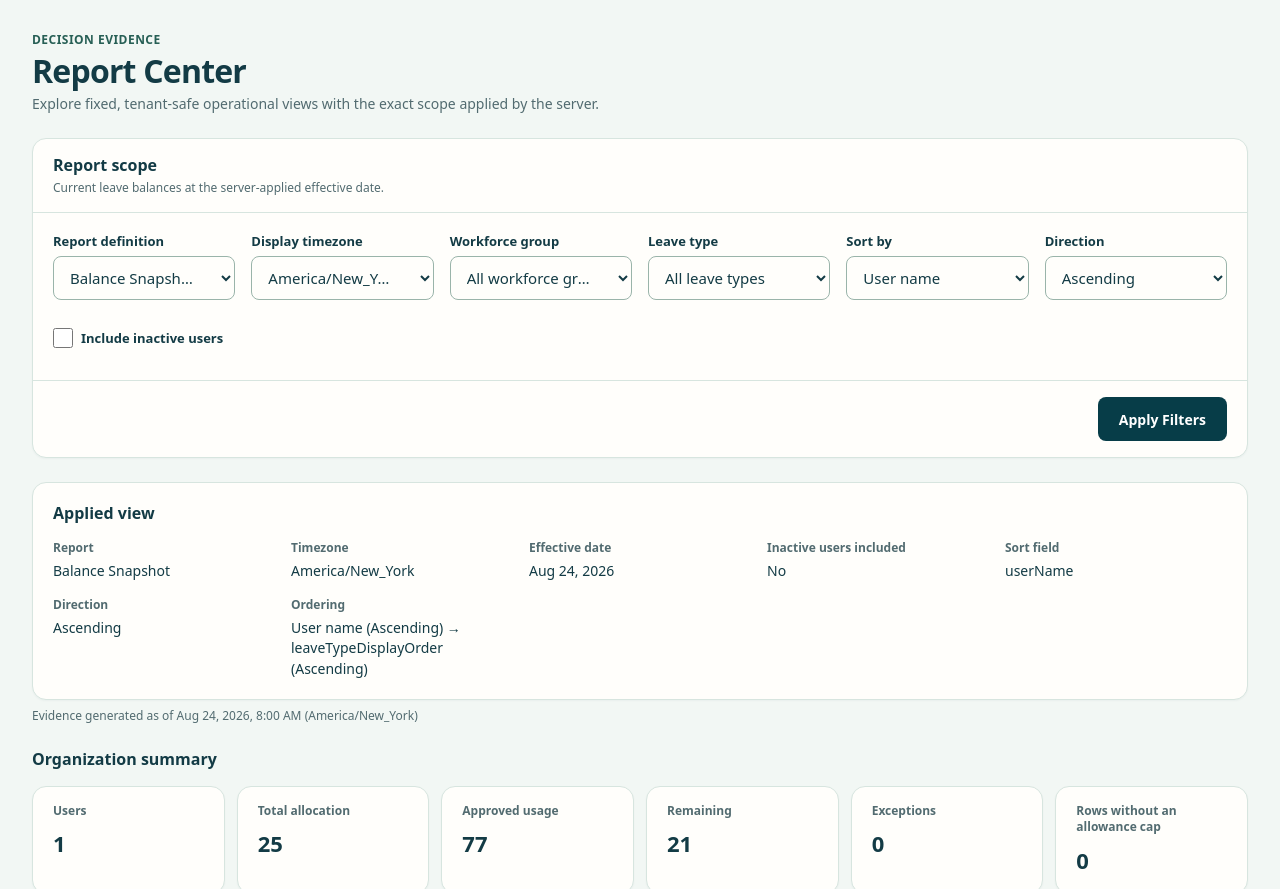
ReportCenterPage › [P0] renders PENDING_AGING with its own columns, labels, and values
The image size is (1280, 889).
Select "Pending Aging" in the dropdown labelled "Report definition" at (144, 278), box [53,256,235,300]
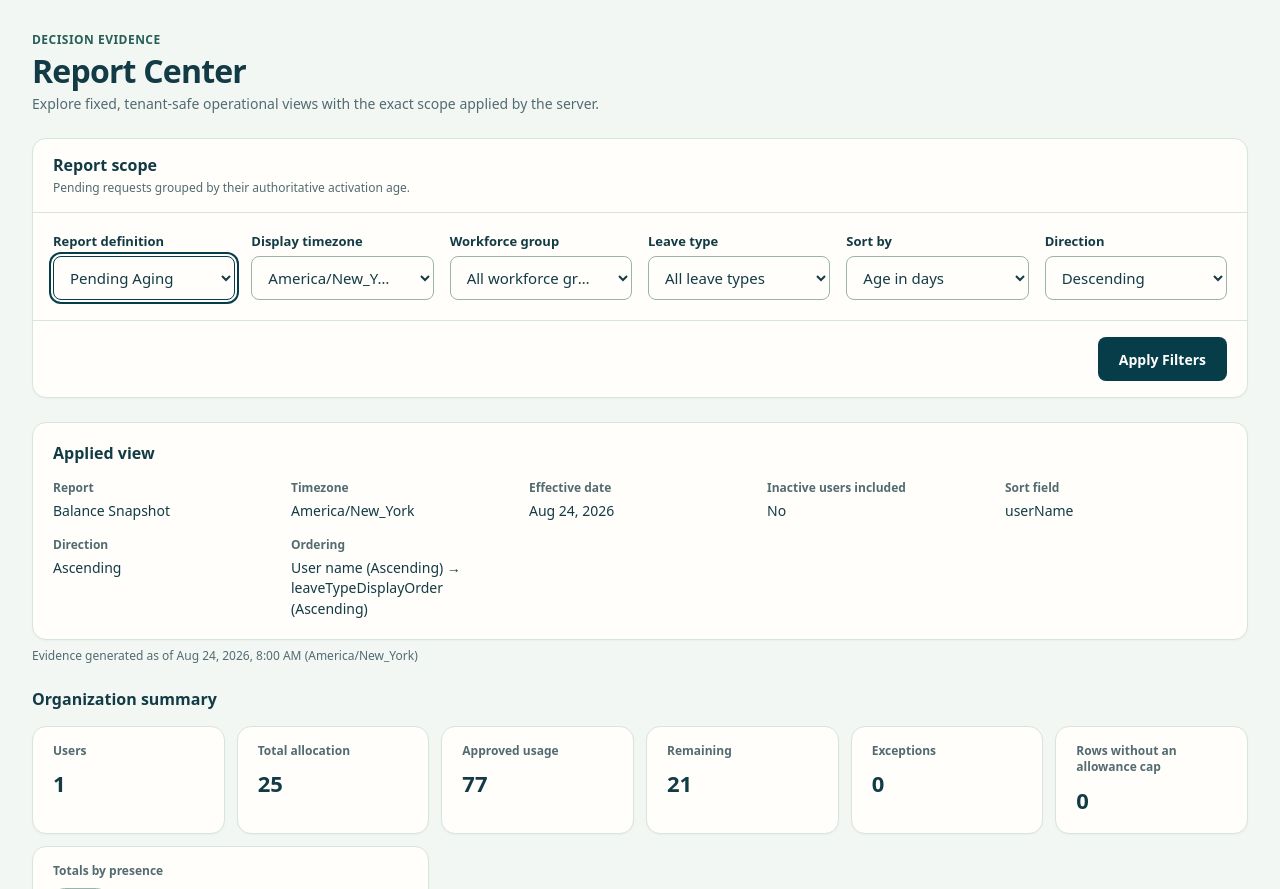
Click the button "Apply Filters" at (1162, 359), box [1098,337,1227,381]
(page scrolled)
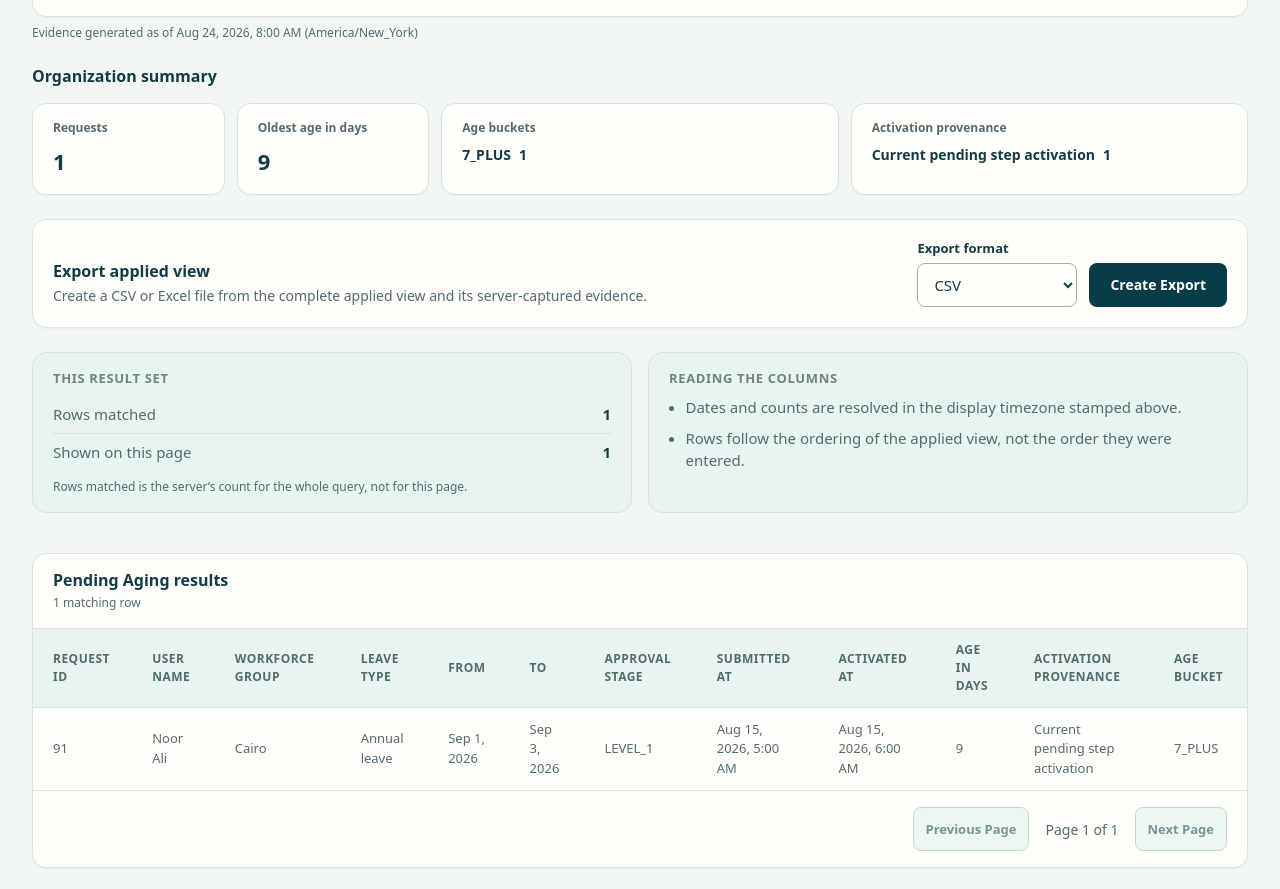
Expected: the cell does not show ""
Expected: the column heading "Activated at" is shown, [818,629,936,707]
Expected: the row with test id "report-row-0" shows "Current pending step activation", [1034,720,1114,777]
